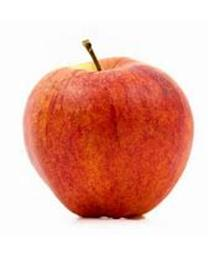apple: (21, 48, 194, 219)
